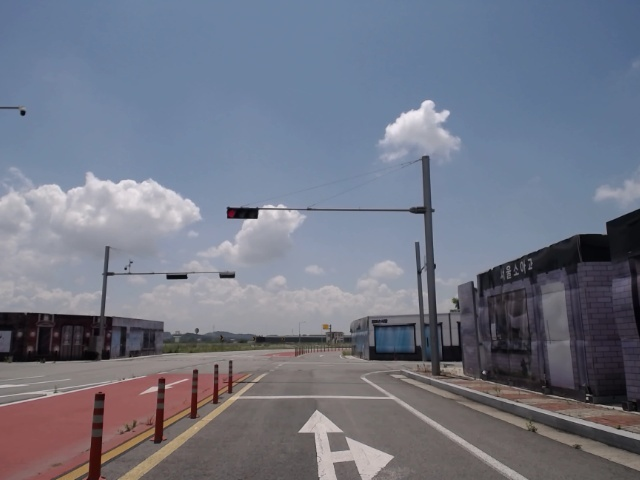red_3: (225, 207, 260, 219)
